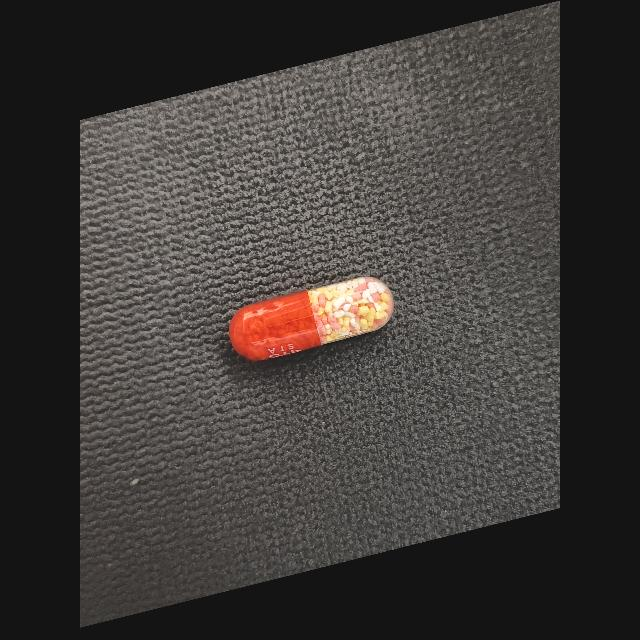Intact Capsule: (229, 277, 394, 361)
